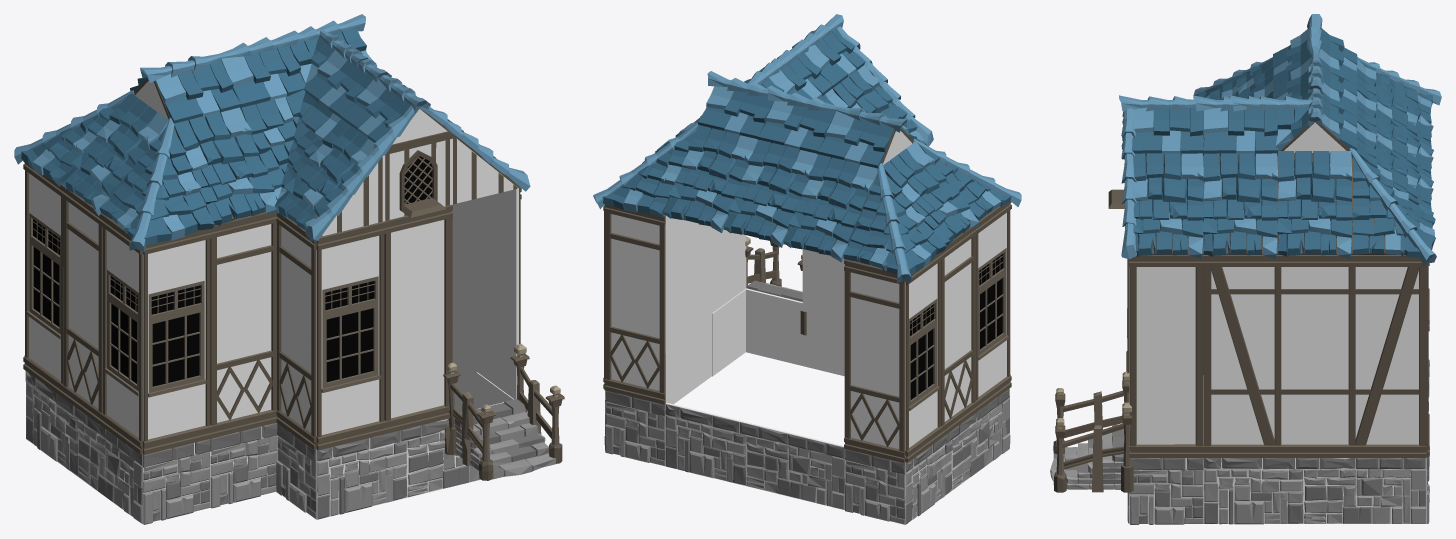
File: house_06_parts.glb
3 views of the same model, side by side, from view 1: azimuth 30°, elevation 25°; view 2: azimuth 150°, elevation 25°; view 3: azimuth 270°, elevation 25° (orthographic). The views are drawn at different scales.
Visible parts, largest first — view 1: WINDOW_04_3, WALL_03_3, WINDOW_04_4, WALL_01_3, FOUNDATION_02_10, STAIRS_06_3, WALL_01_4, WALL_01_2, WINDOW_04_5, WALL_03_4, WINDOW_04_6, FOUNDATION_02_11 (+27 smaller); view 2: WALL_01_6, FOUNDATION_02_12, WALL_01_5, WINDOW_04_6, WINDOW_04_5, WALL_01_4, FOUNDATION_02_11, FOUNDATION_02_10, ROOF_corner_out_3, ROOF_base_8, ROOF_base_6, ROOF_base_7 (+22 smaller); view 3: WALL_02_2, WALL_03_4, FOUNDATION_02_13, ROOF_base_5, ROOF_base_4, ROOF_base_3, STAIRS_06_3, ROOF_corner_out_2, FOUNDATION_03_11, ROOF_base_small_5, ROOF_base_small_4, ROOF_base_6 (+20 smaller).
Part boxes in pixels (x1=…): WINDOW_04_3: x1=316, y1=221, x2=385, y2=450; WALL_03_3: x1=384, y1=205, x2=452, y2=433; WINDOW_04_4: x1=143, y1=229, x2=211, y2=454; WALL_01_3: x1=210, y1=212, x2=277, y2=438; FOUNDATION_02_10: x1=316, y1=402, x2=503, y2=519; STAIRS_06_3: x1=443, y1=344, x2=564, y2=480; WALL_01_4: x1=62, y1=185, x2=102, y2=425; WALL_01_2: x1=276, y1=212, x2=316, y2=449; WINDOW_04_5: x1=101, y1=214, x2=142, y2=454; WALL_03_4: x1=477, y1=187, x2=521, y2=398; WINDOW_04_6: x1=23, y1=161, x2=63, y2=396; FOUNDATION_02_11: x1=26, y1=371, x2=143, y2=523; WALL_01_6: x1=604, y1=204, x2=666, y2=404; FOUNDATION_02_12: x1=665, y1=403, x2=845, y2=509; WALL_01_5: x1=844, y1=259, x2=905, y2=462; WINDOW_04_6: x1=905, y1=251, x2=942, y2=462; WINDOW_04_5: x1=975, y1=201, x2=1011, y2=411; WALL_01_4: x1=941, y1=227, x2=976, y2=436; FOUNDATION_02_11: x1=903, y1=389, x2=1010, y2=524; FOUNDATION_02_10: x1=745, y1=288, x2=844, y2=376; ROOF_corner_out_3: x1=843, y1=163, x2=946, y2=283; ROOF_base_8: x1=783, y1=154, x2=877, y2=262; ROOF_base_6: x1=663, y1=125, x2=757, y2=232; ROOF_base_7: x1=723, y1=139, x2=817, y2=247; WALL_02_2: x1=1203, y1=255, x2=1426, y2=457; WALL_03_4: x1=1129, y1=255, x2=1203, y2=457; FOUNDATION_02_13: x1=1203, y1=458, x2=1426, y2=524; ROOF_base_5: x1=1277, y1=151, x2=1352, y2=258; ROOF_base_4: x1=1203, y1=153, x2=1278, y2=258; ROOF_base_3: x1=1129, y1=153, x2=1203, y2=258; STAIRS_06_3: x1=1050, y1=371, x2=1133, y2=492; ROOF_corner_out_2: x1=1348, y1=148, x2=1436, y2=266; FOUNDATION_03_11: x1=1129, y1=458, x2=1203, y2=524; ROOF_base_small_5: x1=1203, y1=107, x2=1277, y2=156; ROOF_base_small_4: x1=1132, y1=106, x2=1203, y2=156; ROOF_base_6: x1=1356, y1=122, x2=1433, y2=215.
Bounding box in the file's own units: 5.41 × 5.65 × 5.27.
1 material, 1 textured.
